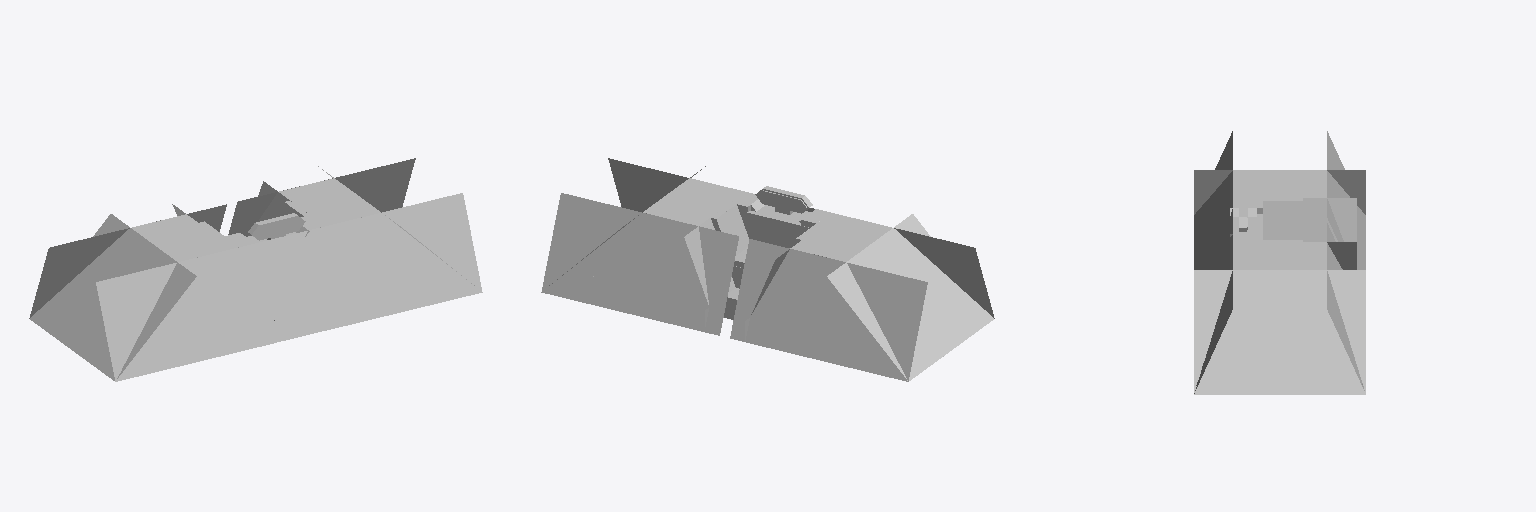
Rendered from clu_throne_big.obj.
3 views of the same model, side by side, from view 1: azimuth 30°, elevation 25°; view 2: azimuth 150°, elevation 25°; view 3: azimuth 270°, elevation 25° (orthographic).
Parts seen in each view (by area): view 1: cube.045, cube.044, cube.039, cube.046, cube.047, cube.048, cube.008, cube.013, cube.019, cube.022, cube.026, cube.062 (+1 smaller); view 2: cube.047, cube.048, cube.039, cube.044, cube.045, cube.008, cube.013, cube.036, cube.019, cube.022, cube.004, cube.003 (+1 smaller); view 3: cube.043, cube.044, cube.006, cube.013, cube.008, cube.039, cube.005, cube.048, cube.063, cube.047, cube.045, cube.022 (+3 smaller).
Boxes of the visible parts, x1=… form: cube.045: x1=309, y1=193, x2=482, y2=329; cube.044: x1=96, y1=244, x2=273, y2=381; cube.039: x1=30, y1=214, x2=196, y2=380; cube.046: x1=255, y1=231, x2=327, y2=342; cube.047: x1=228, y1=158, x2=415, y2=236; cube.048: x1=29, y1=204, x2=226, y2=318; cube.008: x1=279, y1=178, x2=368, y2=217; cube.013: x1=132, y1=214, x2=220, y2=252; cube.019: x1=166, y1=235, x2=254, y2=261; cube.022: x1=303, y1=204, x2=380, y2=229; cube.026: x1=256, y1=213, x2=297, y2=240; cube.062: x1=51, y1=294, x2=132, y2=353; cube.047: x1=541, y1=193, x2=738, y2=335; cube.048: x1=730, y1=239, x2=927, y2=381; cube.039: x1=827, y1=214, x2=993, y2=380; cube.044: x1=894, y1=228, x2=994, y2=318; cube.045: x1=608, y1=158, x2=688, y2=212; cube.008: x1=643, y1=187, x2=733, y2=225; cube.013: x1=790, y1=223, x2=880, y2=261; cube.036: x1=739, y1=211, x2=809, y2=247; cube.019: x1=804, y1=209, x2=891, y2=235; cube.022: x1=678, y1=178, x2=757, y2=203; cube.004: x1=712, y1=203, x2=748, y2=255; cube.003: x1=684, y1=201, x2=735, y2=304; cube.043: x1=1194, y1=270, x2=1365, y2=394; cube.044: x1=1194, y1=131, x2=1232, y2=269; cube.006: x1=1303, y1=198, x2=1356, y2=241; cube.013: x1=1256, y1=170, x2=1326, y2=197; cube.008: x1=1256, y1=242, x2=1326, y2=269; cube.039: x1=1194, y1=170, x2=1365, y2=214; cube.005: x1=1263, y1=201, x2=1302, y2=239; cube.048: x1=1327, y1=131, x2=1365, y2=269; cube.063: x1=1202, y1=361, x2=1357, y2=368; cube.047: x1=1327, y1=223, x2=1364, y2=390; cube.045: x1=1194, y1=235, x2=1232, y2=393; cube.022: x1=1233, y1=234, x2=1256, y2=269.
Bounding box in the file's own units: 2.99 × 0.7731 × 1.22.